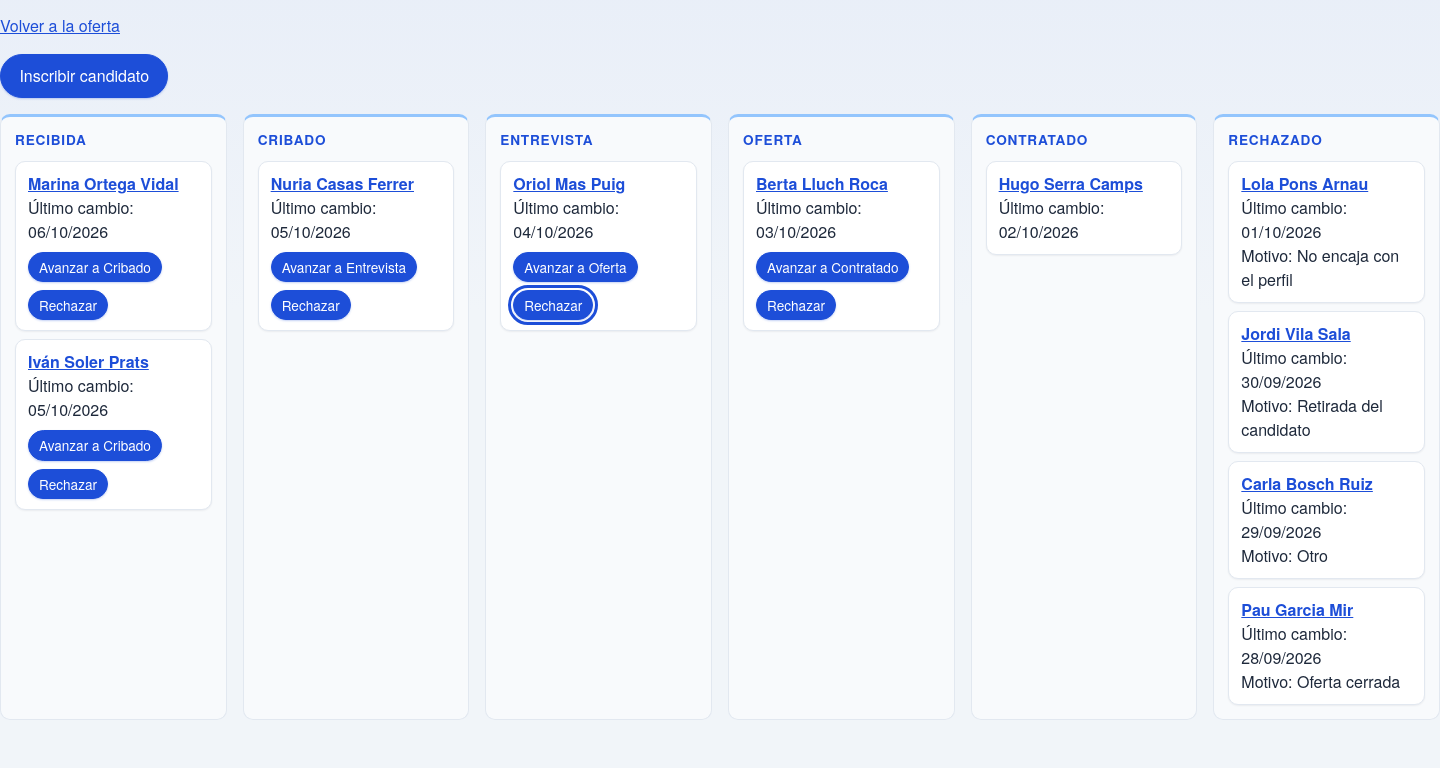
PipelineScreen: rechazar › EC-39 STAGE_MISMATCH → diálogo cerrado, alerta con foco y recarga
Click the button named "Rechazar: Oriol Mas Puig" at (553, 305), box [513,290,593,320]
(page scrolled)
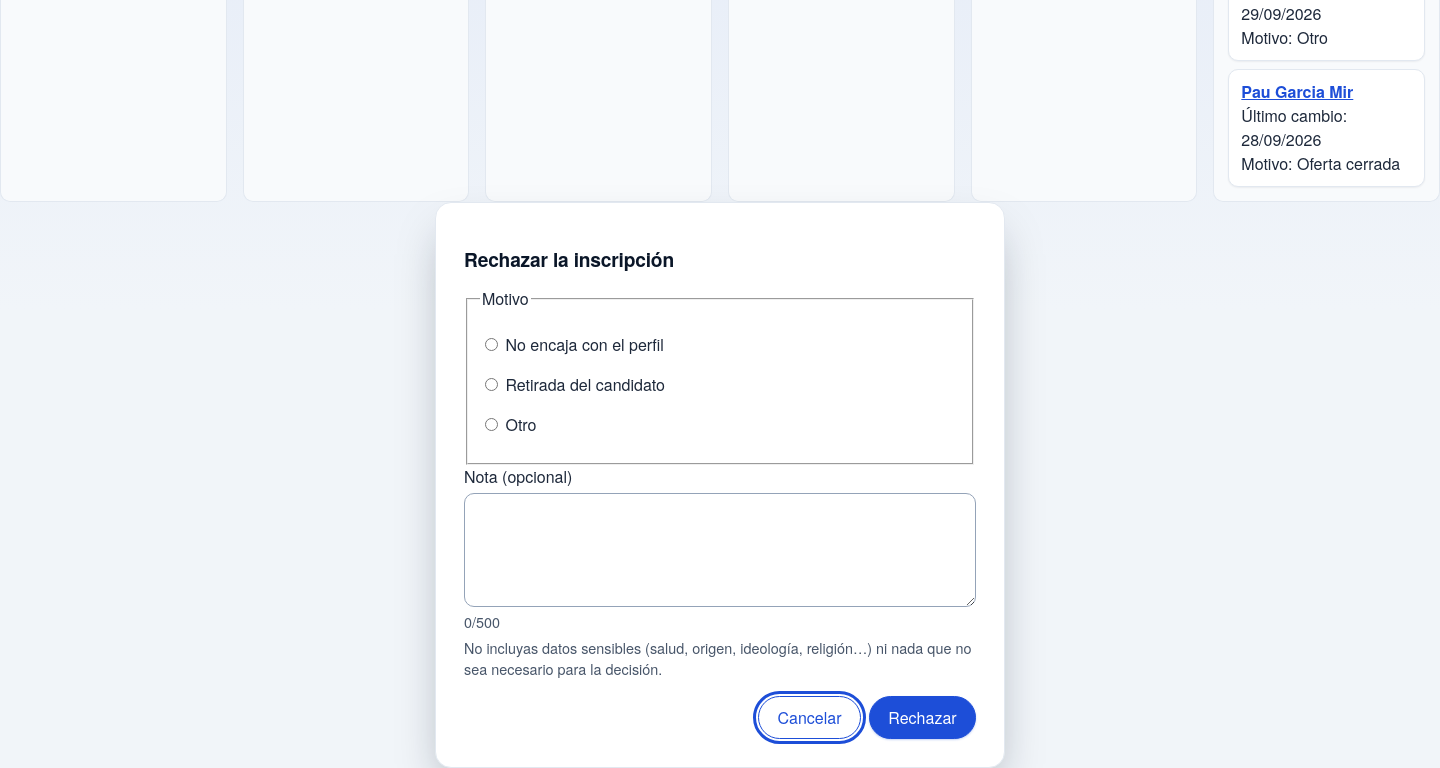
Click the radio button labelled "No encaja con el perfil" at (492, 344), box [485,338,498,351]
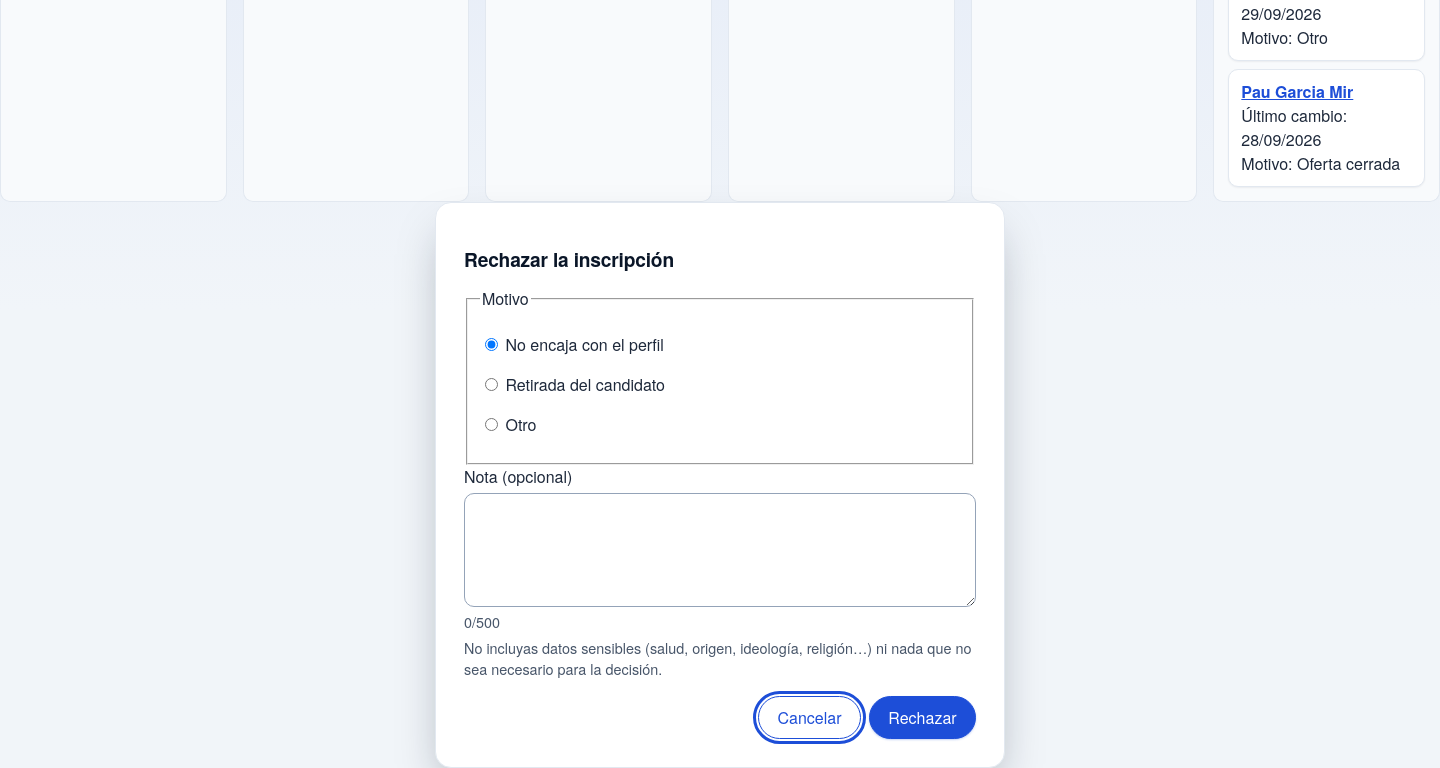
Type "Nota que se descarta." into the text box labelled "Nota (opcional)" at (720, 550), box [464,493,976,607]
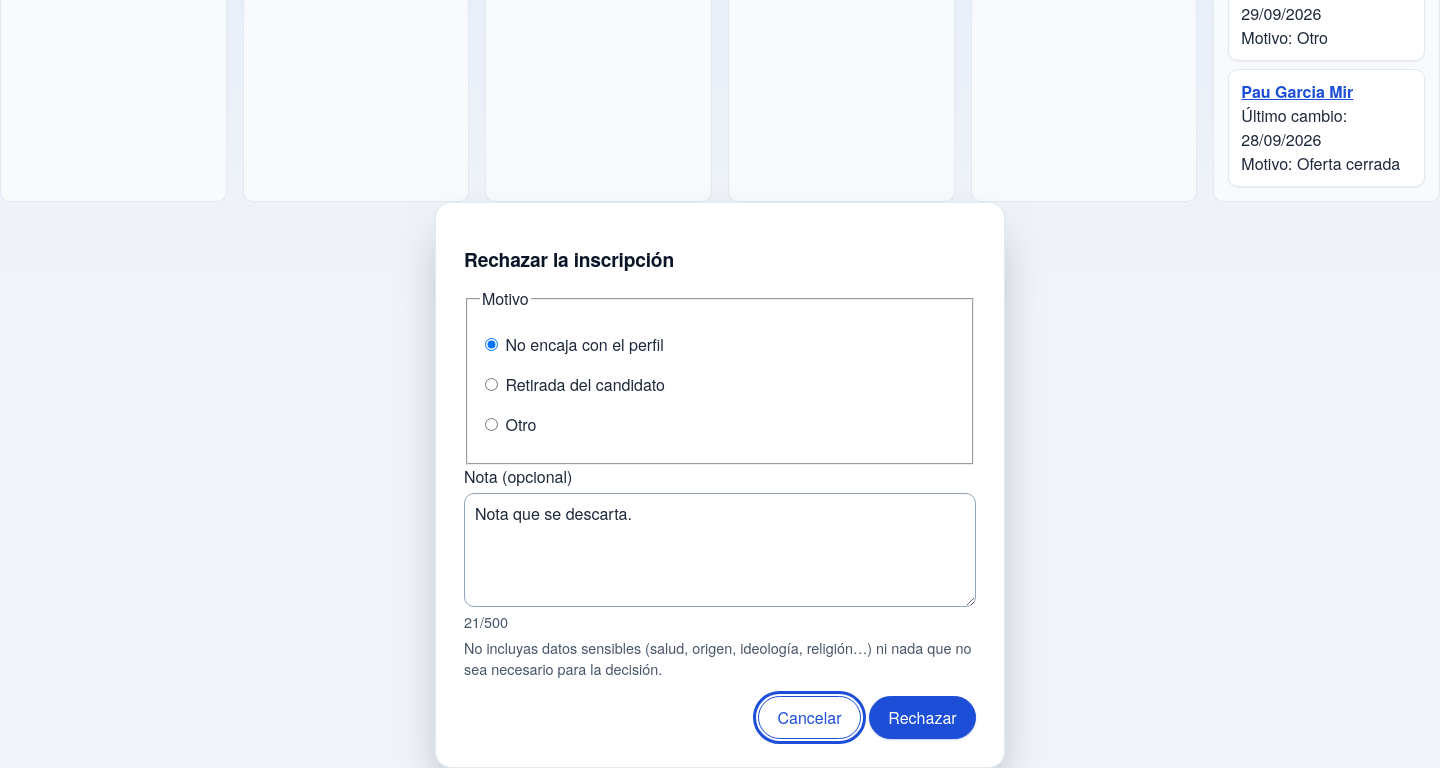
Click the 2nd button "Rechazar" at (922, 718), box [869,696,976,740]
(page scrolled)
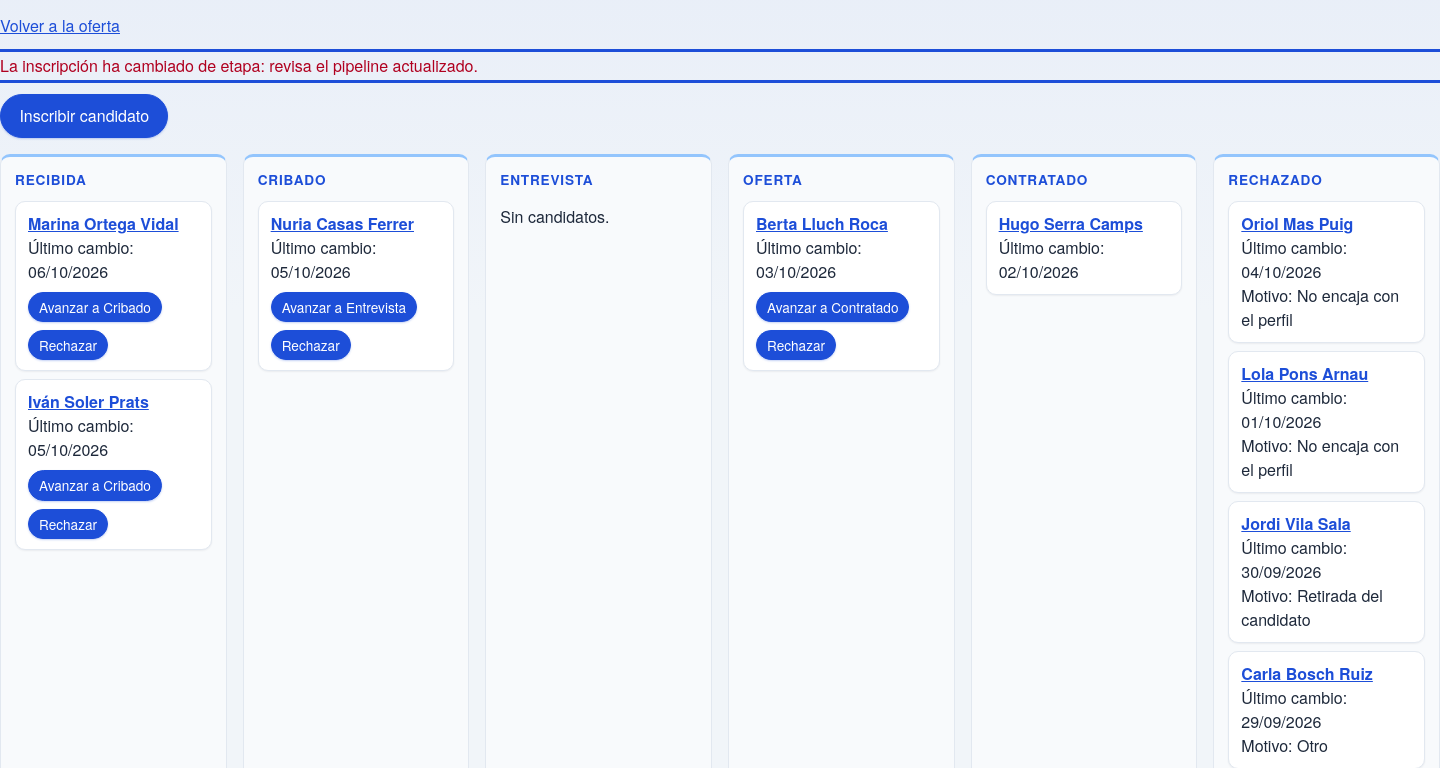
Expected: the link "Oriol Mas Puig" is shown, [1241,212,1353,235]
Now the message reads "La inscripción ha cambiado de etapa: revisa el pipeline actualizado.", box [0,54,478,77]
